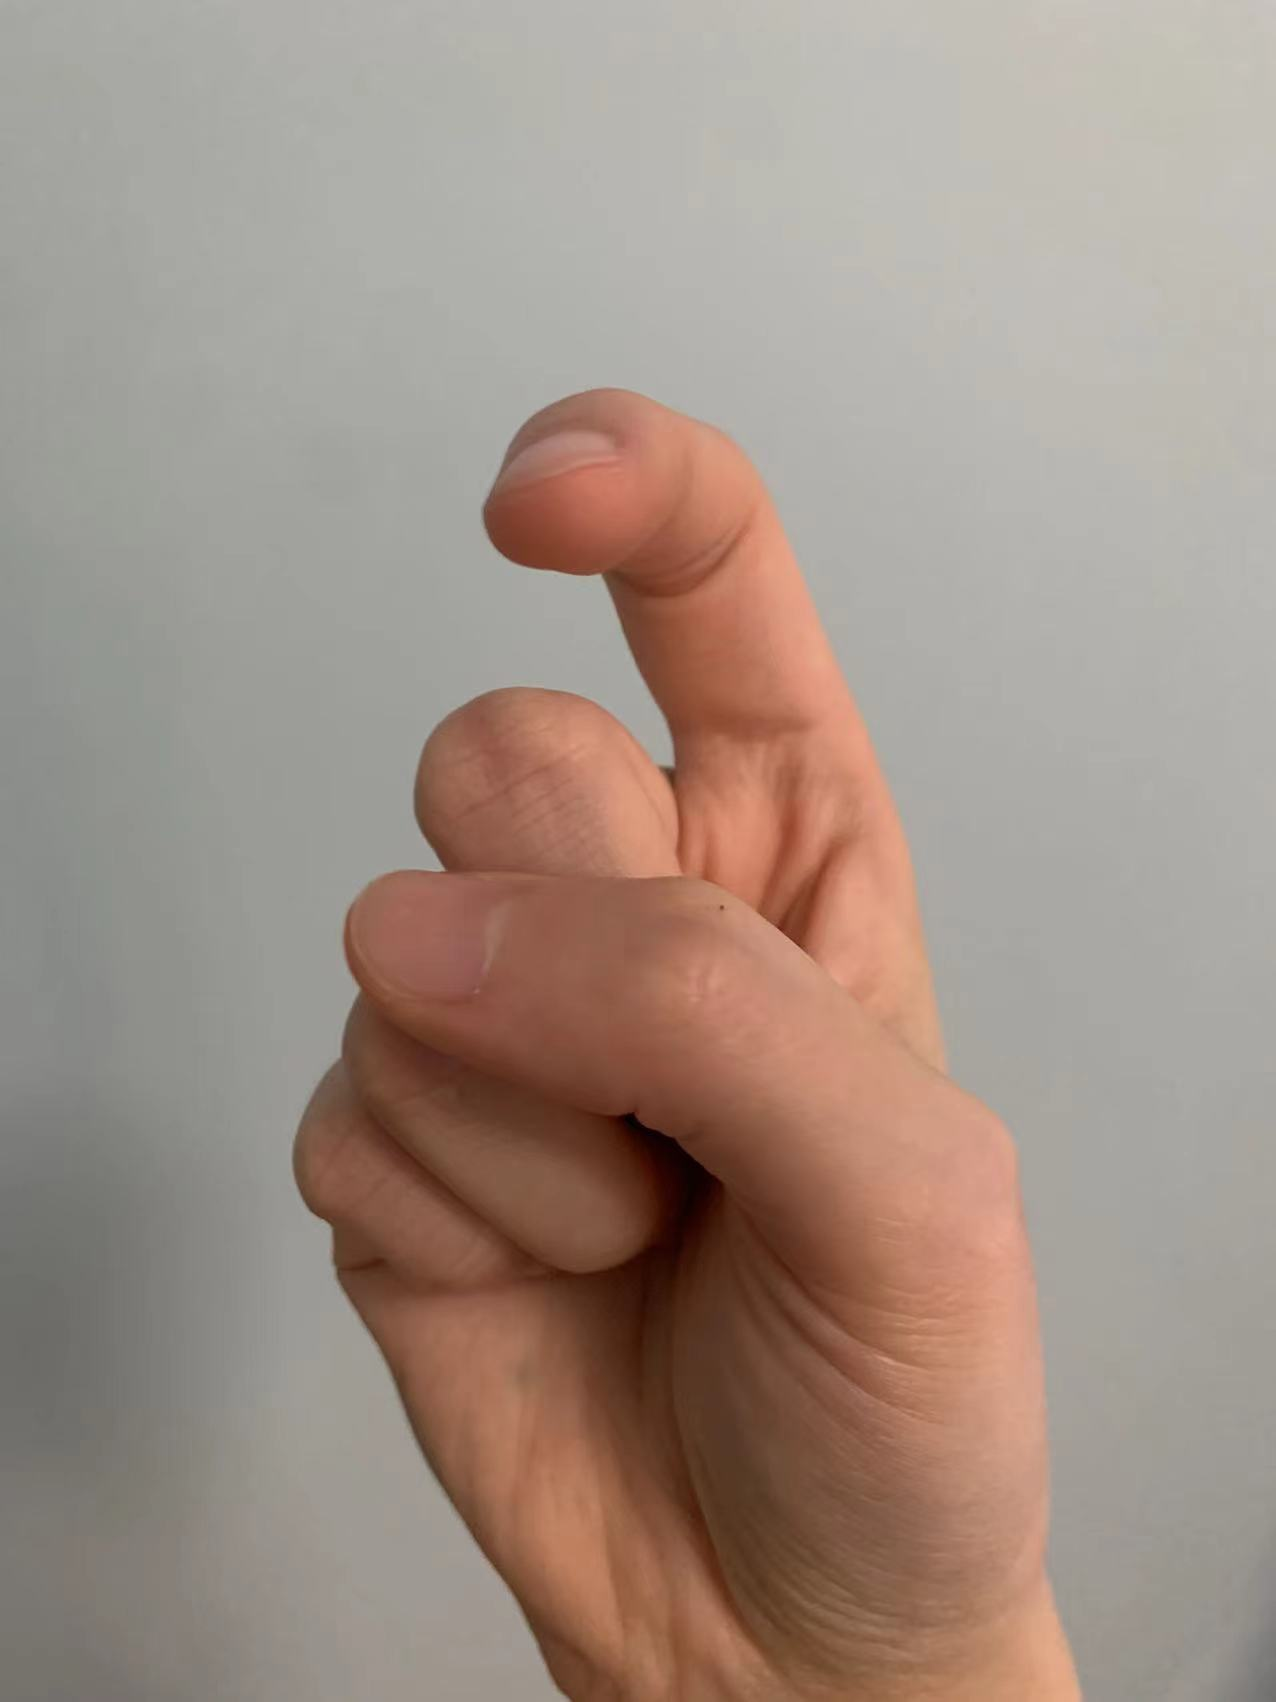anticlockwise: (267, 371, 1033, 1682)
